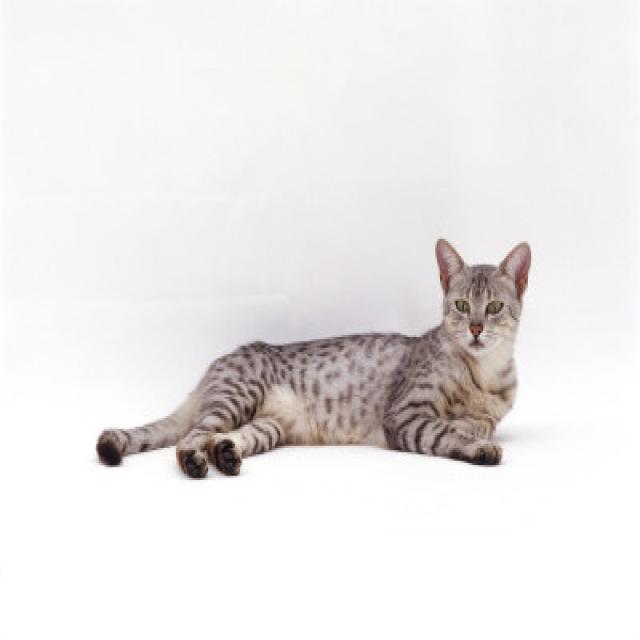Egyptian_Mau: (431, 231, 535, 358)
